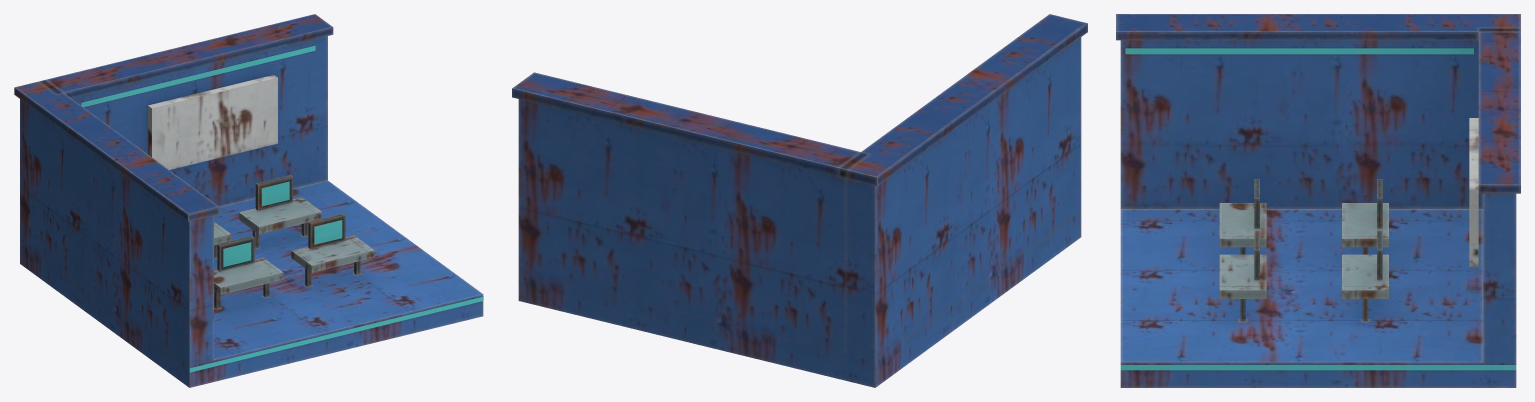
The model's file is advanced_school.glb.
3 renders of one model, left to right at view 1: azimuth 30°, elevation 25°; view 2: azimuth 150°, elevation 25°; view 3: azimuth 270°, elevation 25°, orthographic. The views are drawn at different scales.
Visible parts, largest first — view 1: te_advanced_school; view 2: te_advanced_school; view 3: te_advanced_school.
Boxes of the visible parts, bbox=[...] form: te_advanced_school: bbox=[14, 14, 483, 387]; te_advanced_school: bbox=[512, 14, 1087, 387]; te_advanced_school: bbox=[1116, 14, 1520, 387].
Bounding box in the file's own units: 0.86 × 0.48 × 0.86.
1 material, 1 textured.
